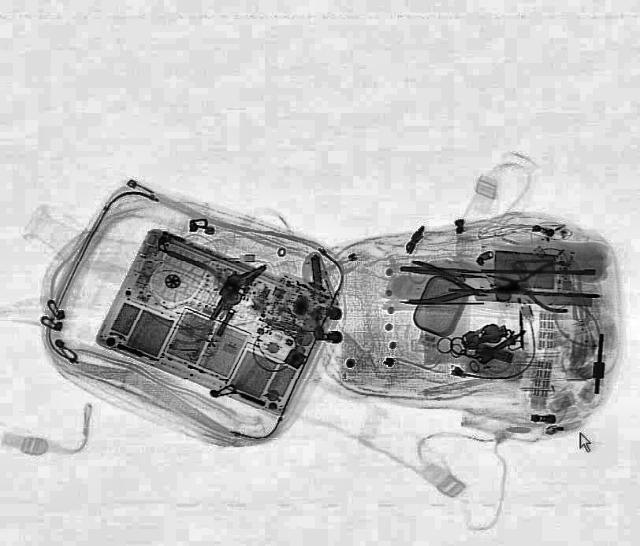Pliers: (481, 255, 575, 313), (401, 258, 492, 312)
